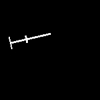double_crochet: (9, 33, 49, 48)
